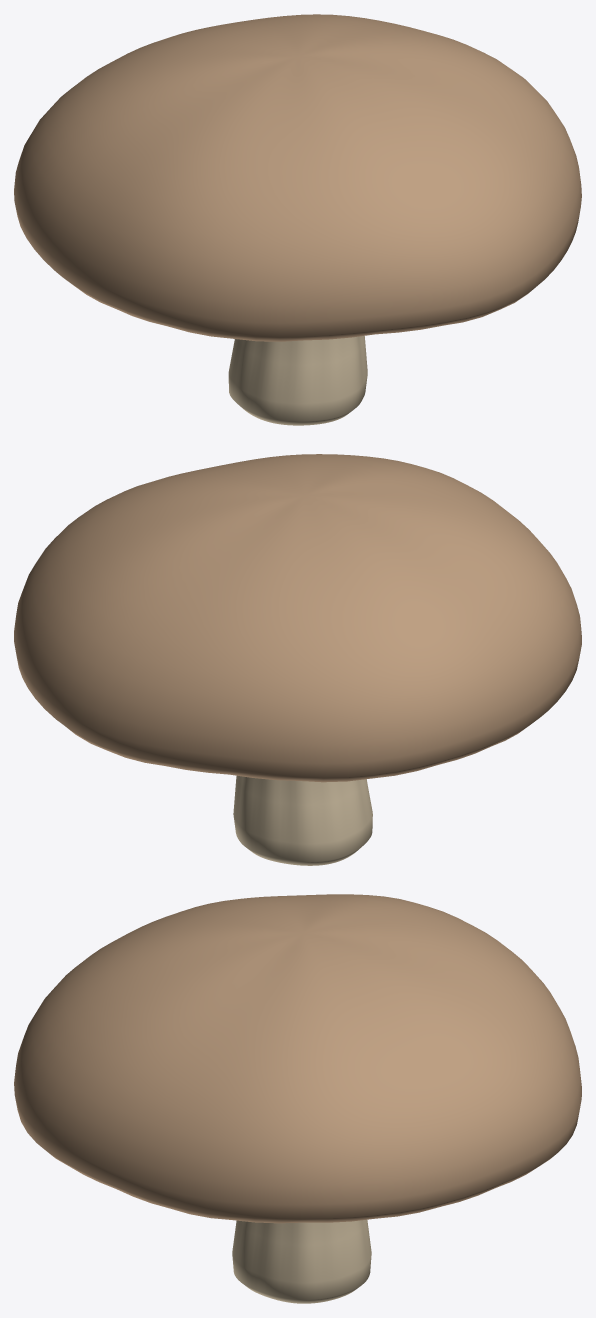
3 renders of one model, top to bottom at view 1: azimuth 30°, elevation 25°; view 2: azimuth 150°, elevation 25°; view 3: azimuth 270°, elevation 25°, orthographic.
Visible parts, largest first — view 1: Whole organic mushroom continuous cap stem and radial unders; view 2: Whole organic mushroom continuous cap stem and radial unders; view 3: Whole organic mushroom continuous cap stem and radial unders.
Part boxes in pixels (<box>): Whole organic mushroom continuous cap stem and radial unders: <box>14,14,581,425</box>; Whole organic mushroom continuous cap stem and radial unders: <box>14,454,581,865</box>; Whole organic mushroom continuous cap stem and radial unders: <box>14,894,581,1303</box>.
Size of the model in its own units: 0.1 by 0.067 by 0.1.
